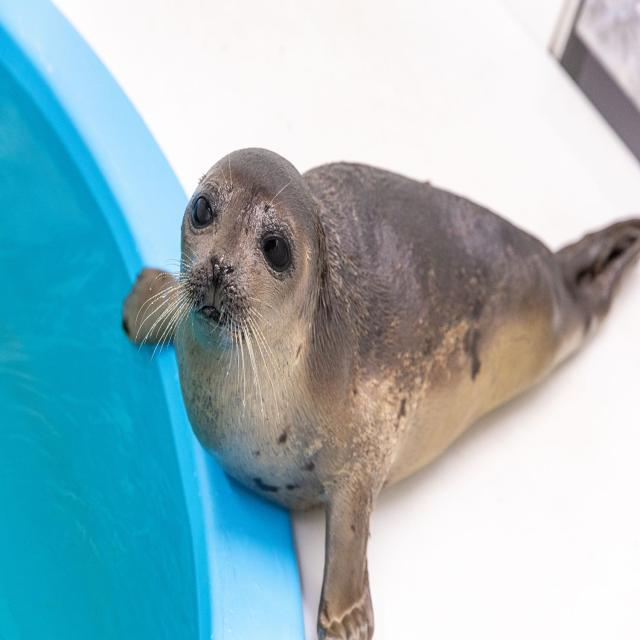WaterDog: (116, 134, 640, 570)
